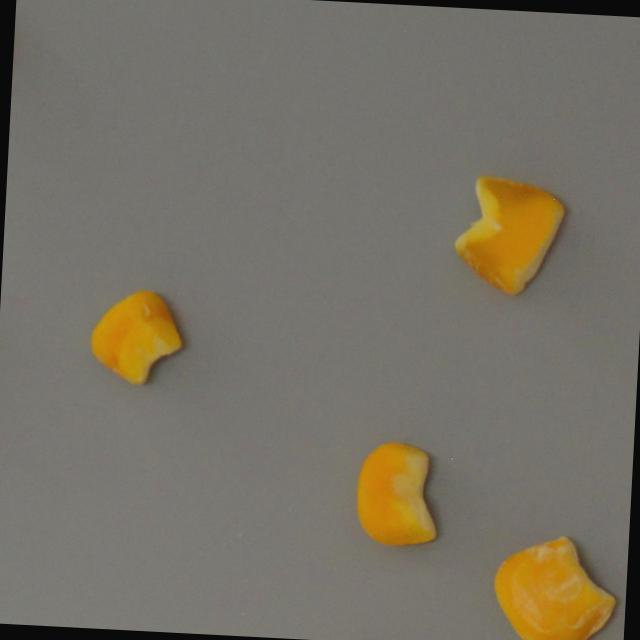dañado: (446, 172, 574, 301), (85, 282, 191, 392)
no_canjicado: (350, 435, 445, 551)
pelicula: (486, 529, 627, 640)
